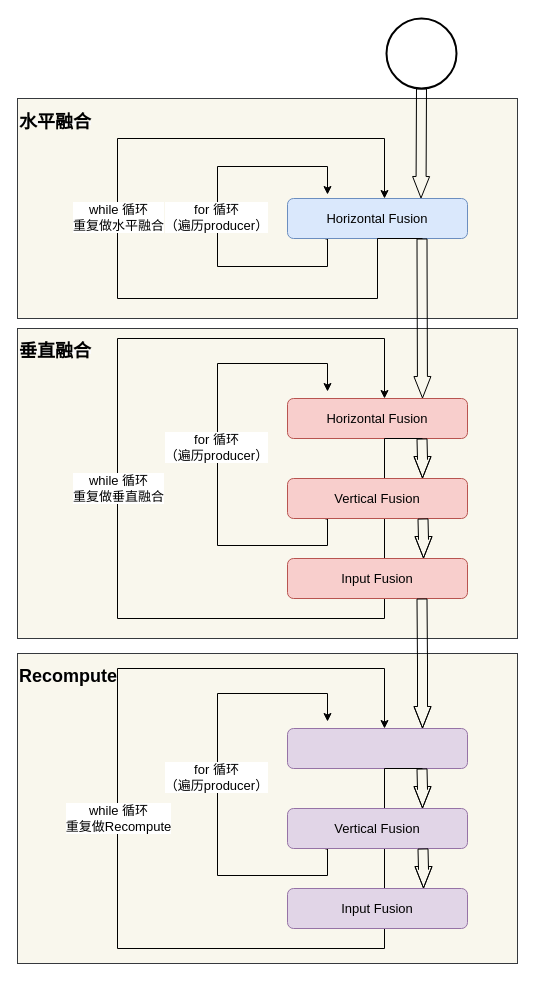
Some shapes in this 535 by 981 pixel diagram are drawn without their labels. The box of each missing label's shape, as (x1, y1, x2, y2) in pixels:
Recompute Fusion: (286, 728, 468, 768)
开始: (385, 17, 457, 89)
